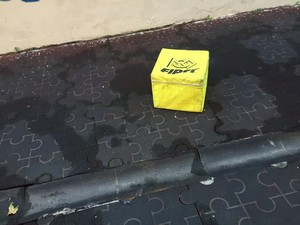cube: (149, 48, 210, 112)
